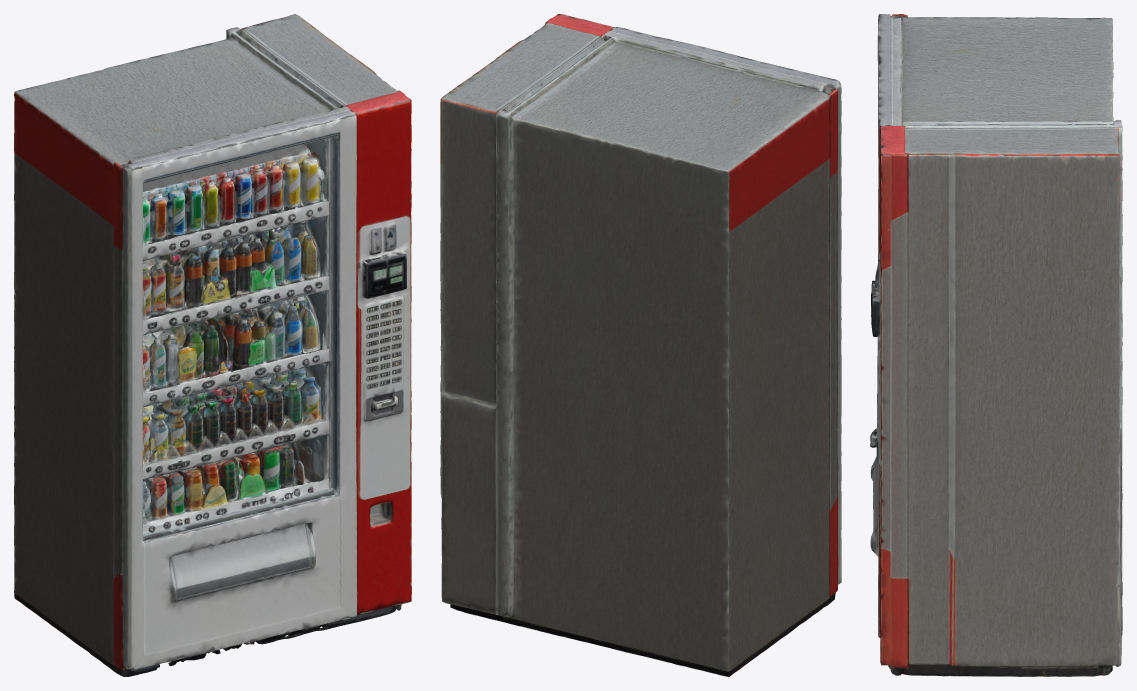
File: VendingMachine.glb
3 renders of one model, left to right at view 1: azimuth 30°, elevation 25°; view 2: azimuth 150°, elevation 25°; view 3: azimuth 270°, elevation 25°, orthographic. The views are drawn at different scales.
Parts seen in each view (by area): view 1: texture_mapping; view 2: texture_mapping; view 3: texture_mapping.
Part boxes in pixels (x1,y1,x2,y2): texture_mapping: (14,14,411,676); texture_mapping: (440,14,841,676); texture_mapping: (870,14,1122,676).
Bounding box in the file's own units: 0.588 × 1 × 0.4371.
Materials: 1 (1 with a texture image).
